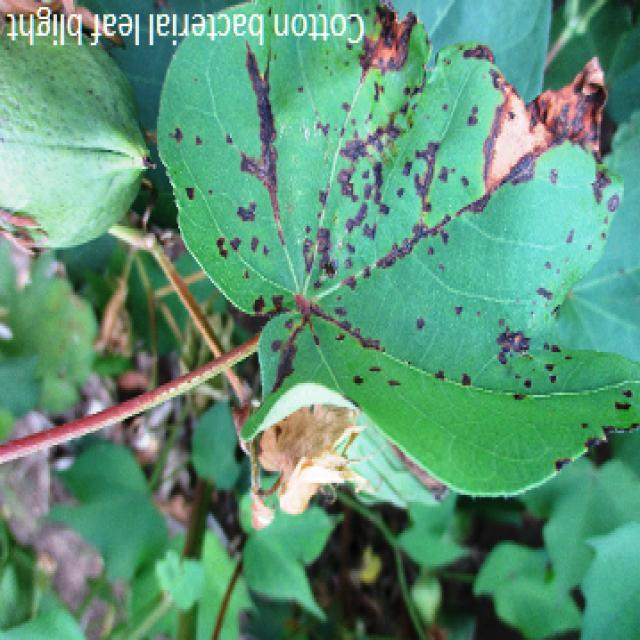Bacterial Blight: (260, 6, 586, 308)
